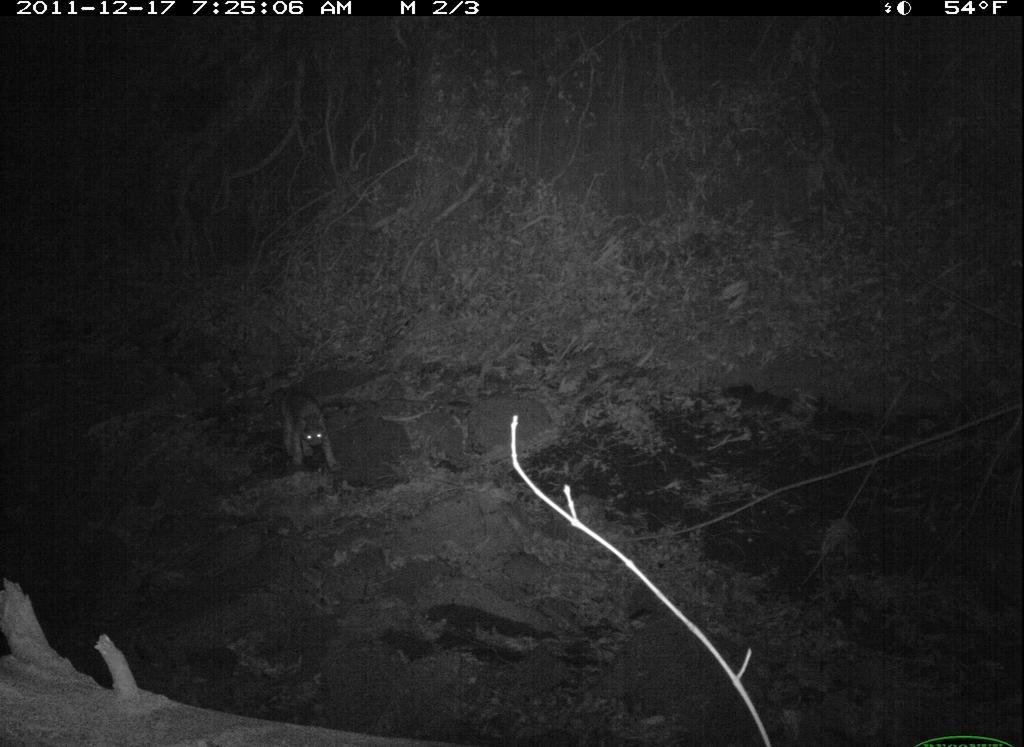bobcat: (265, 377, 348, 483)
